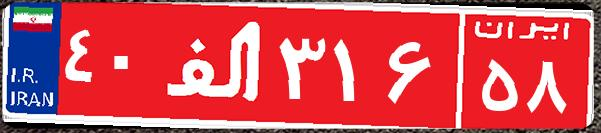0: (110, 28, 158, 105)
1: (330, 28, 385, 110)
3: (273, 28, 330, 110)
4: (57, 26, 110, 107)
5: (475, 38, 525, 113)
6: (385, 28, 445, 110)
8: (525, 38, 570, 115)
الف: (158, 15, 273, 115)
